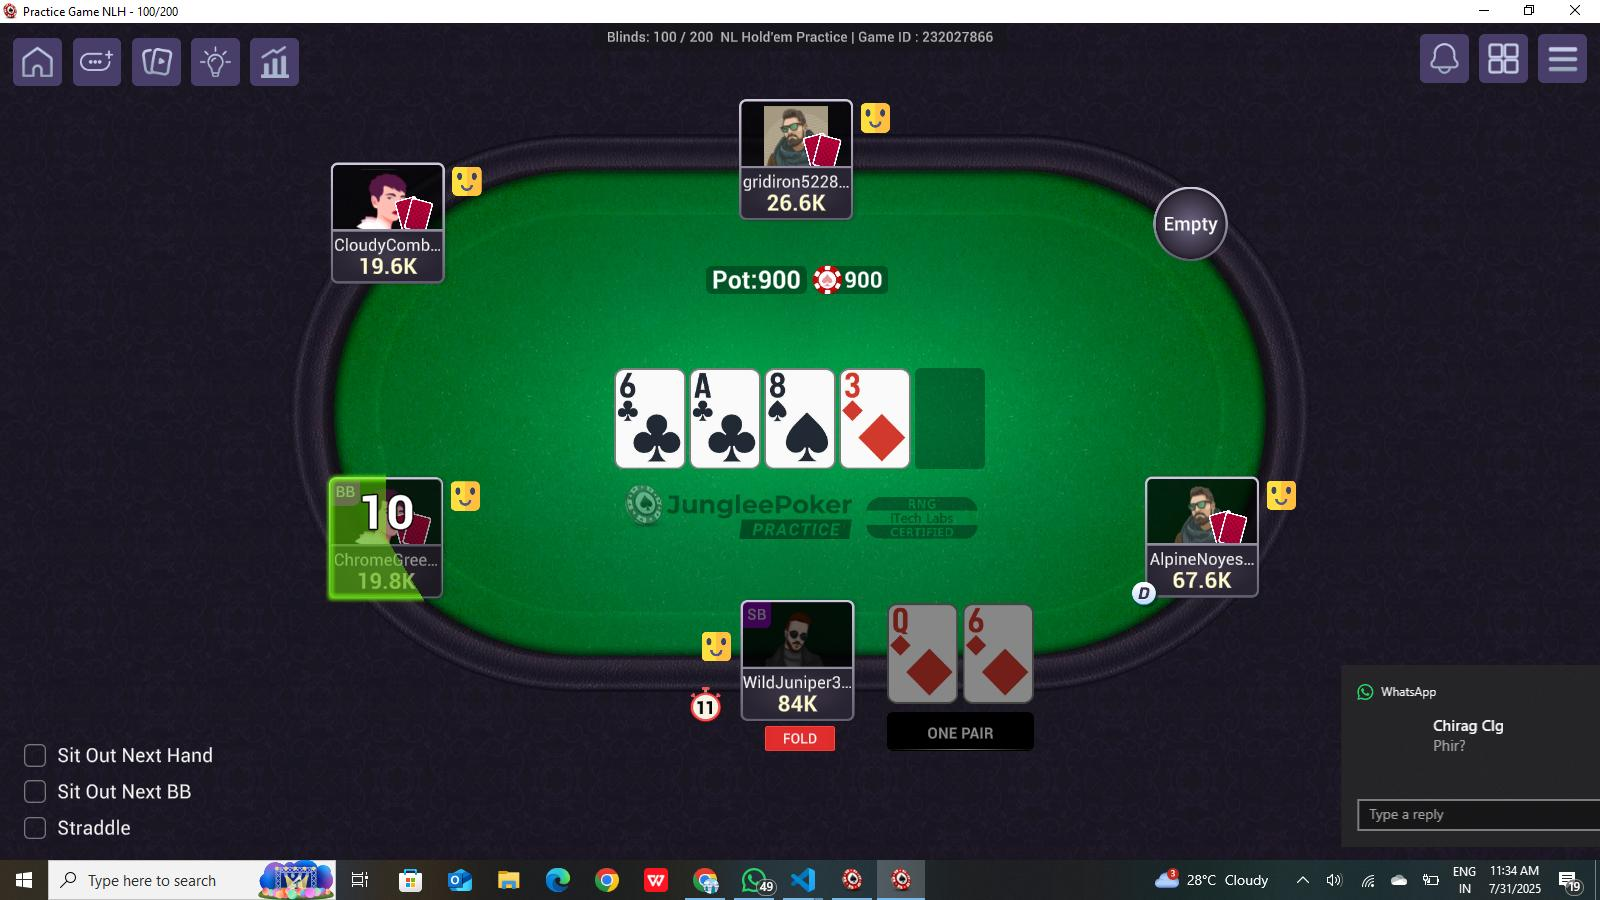card1_rank: (888, 609, 958, 643)
card1_suite_diamond: (898, 648, 956, 705)
card2_rank: (964, 611, 1033, 643)
card2_suite_diamond: (984, 636, 1027, 705)
flop1_rank: (612, 365, 677, 403)
flop1_suite_club: (632, 404, 680, 470)
flop2_rank: (688, 368, 754, 412)
flop2_suite_club: (700, 413, 762, 468)
flop3_rank: (770, 373, 832, 412)
flop3_suite_spades: (773, 414, 832, 473)
game_id: (851, 24, 1000, 55)
my_stack: (744, 687, 852, 721)
position_BB: (330, 482, 373, 520)
position_SB: (740, 595, 768, 633)
total_pot: (698, 265, 886, 296)
turn_rank: (842, 367, 892, 403)
turn_suite_diamond: (848, 401, 908, 471)
villian1_name: (327, 545, 440, 575)
villian1_stack: (336, 565, 440, 595)
villian2_name: (334, 226, 444, 263)
villian2_stack: (327, 253, 448, 282)
villian3_name: (738, 168, 860, 196)
villian3_stack: (736, 192, 849, 219)
villian5_name: (1148, 545, 1263, 570)
villian5_stack: (1149, 568, 1256, 590)
